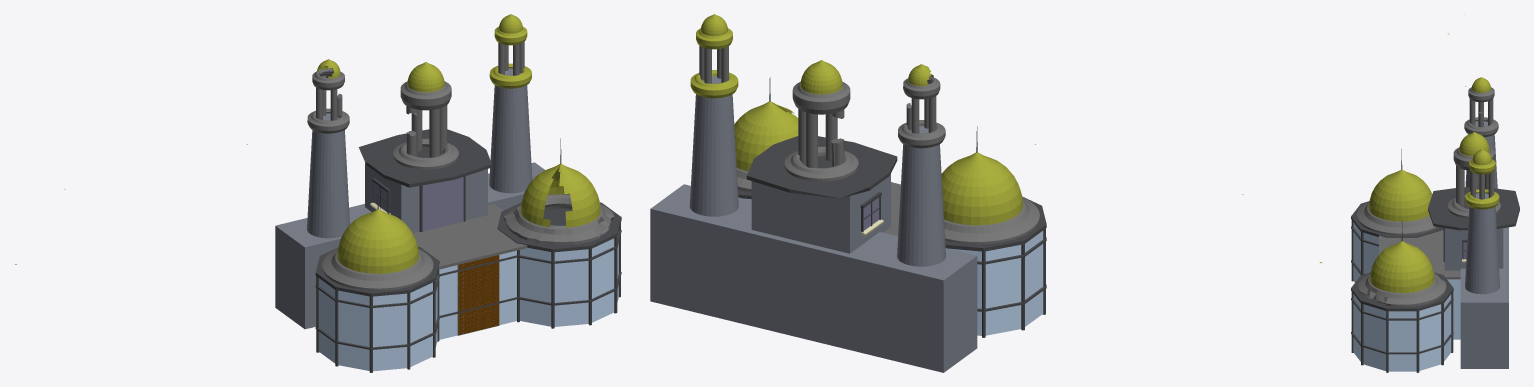
The model's file is Temple.fbx.
The picture shows the model from 3 angles, left to right: view 1: azimuth 30°, elevation 25°; view 2: azimuth 150°, elevation 25°; view 3: azimuth 270°, elevation 25°; orthographic projection. The views are drawn at different scales.
Parts seen in each view (by area): view 1: Sphere.021; view 2: Sphere.021; view 3: Sphere.021.
Boxes of the visible parts, x1,y1,x2,y2 form: Sphere.021: [15, 14, 621, 372]; Sphere.021: [650, 14, 1322, 372]; Sphere.021: [1351, 14, 1519, 372].
Size of the model in its own units: 64532 by 27366 by 20552.
